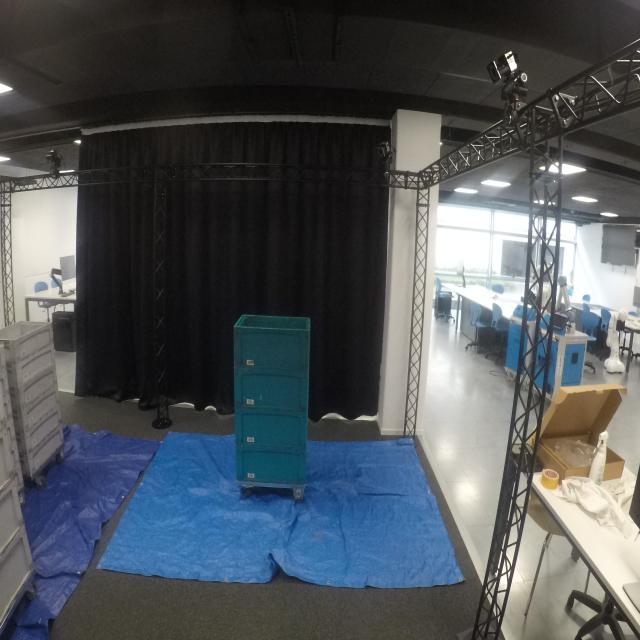BoxB4: (229, 308, 312, 378), (234, 410, 311, 456), (234, 374, 310, 414), (234, 447, 310, 487)
